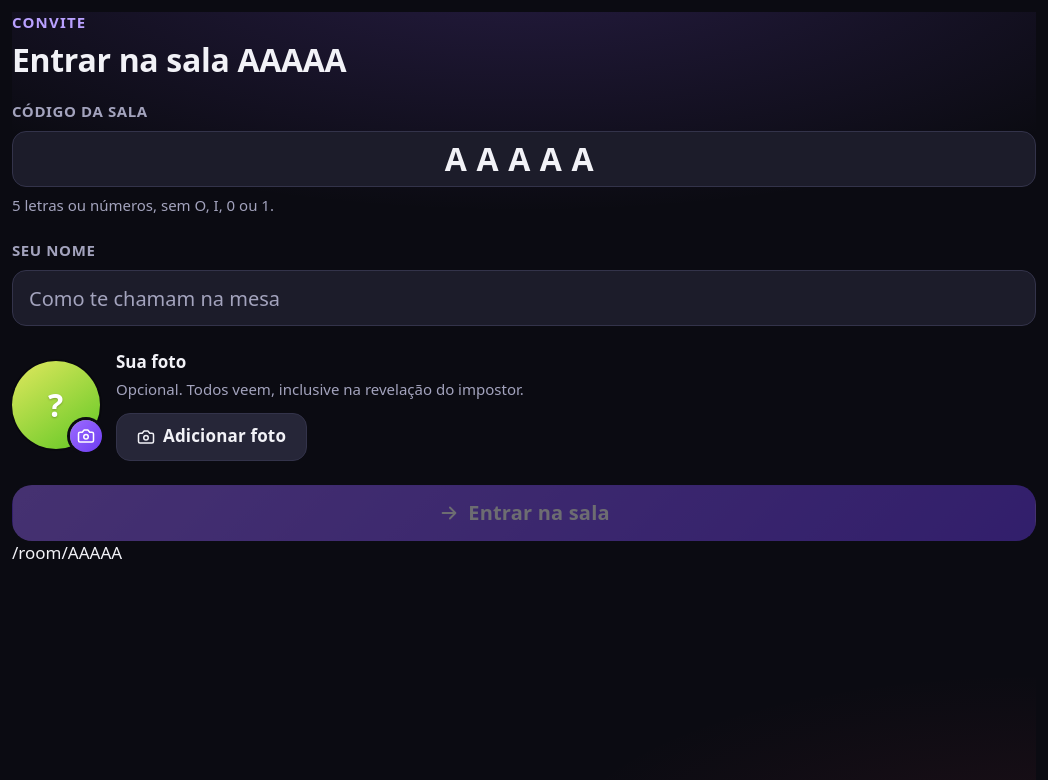
Test: RoomPage › moves to the room the player actually joined
Replace the text in the field labelled "Código da sala" with "BBBBB": (524, 159) [12,131,1036,187]
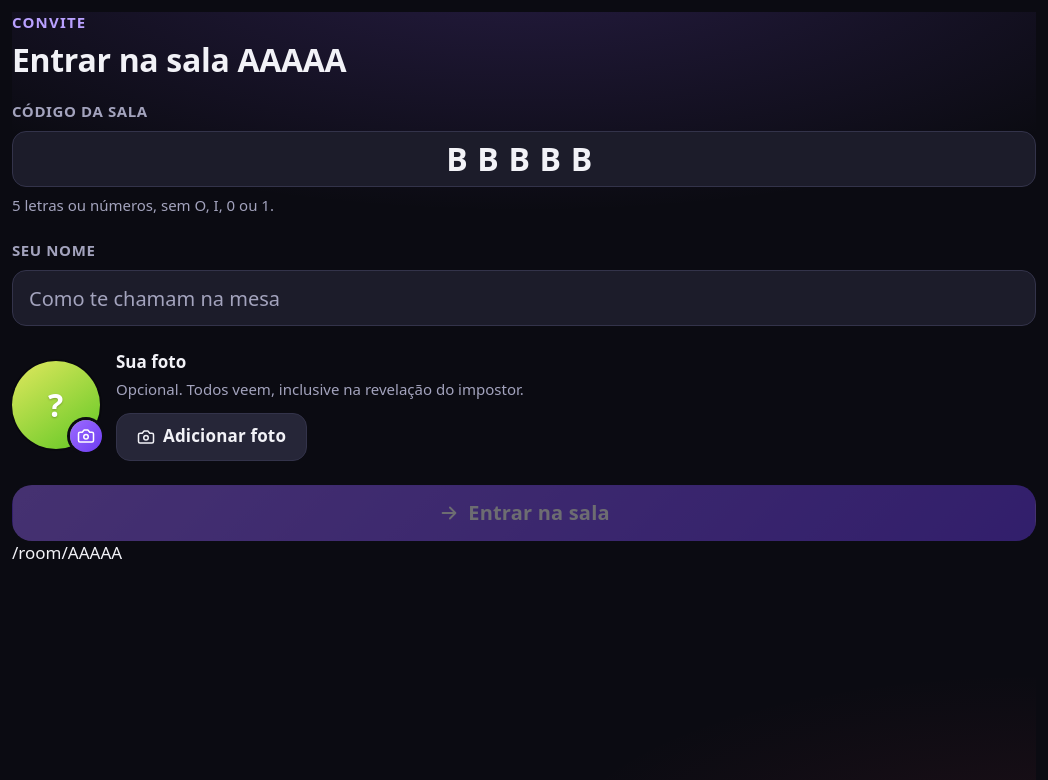
In the field labelled "Seu nome": (524, 298) [12,270,1036,326], type "Bia"
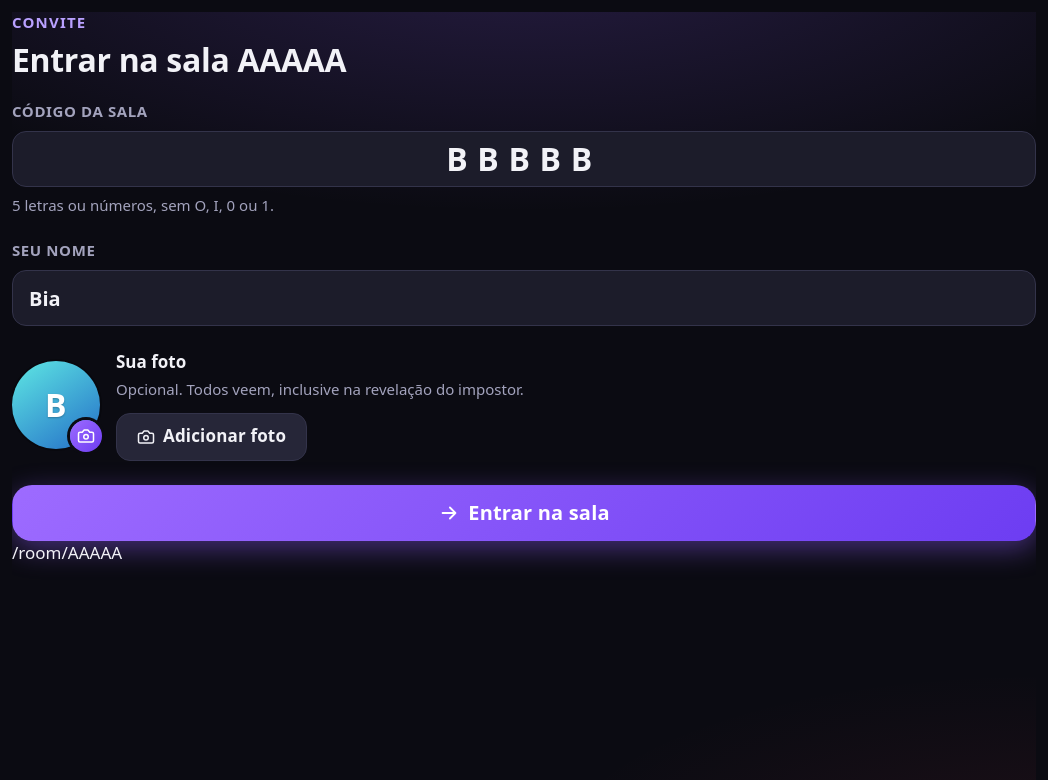
Click the button "Entrar na sala": click(524, 513) [12,485,1036,541]
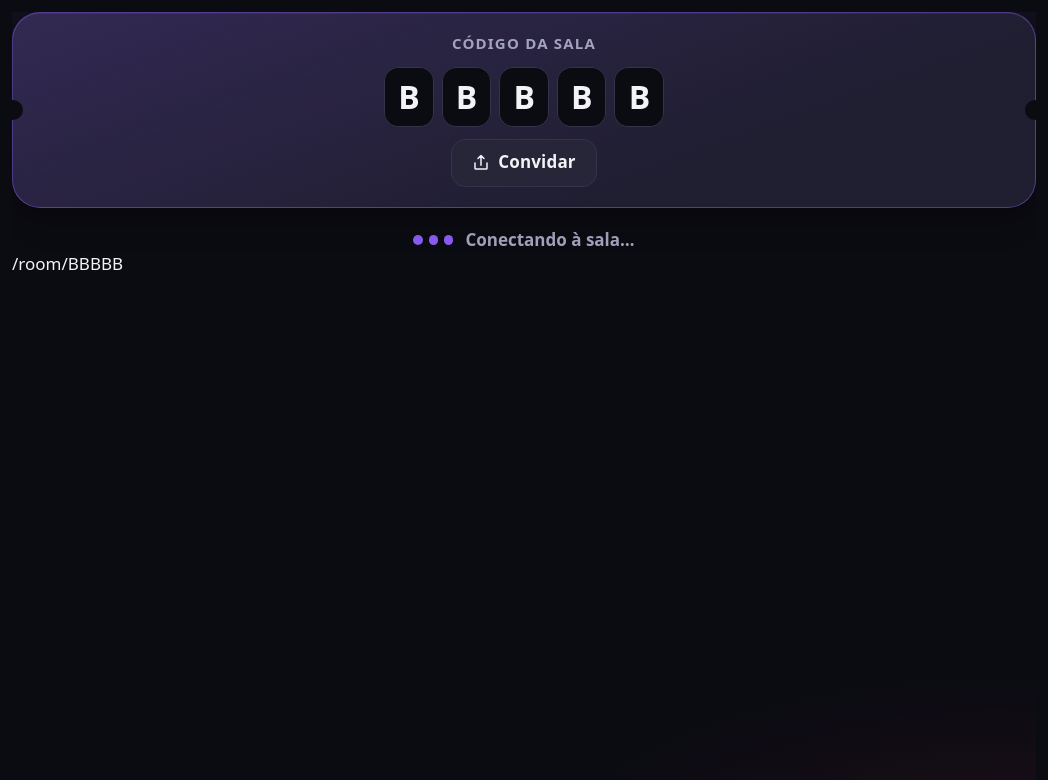
Check: the text with test id "location" reads "/room/BBBBB", box [12,252,123,275]
